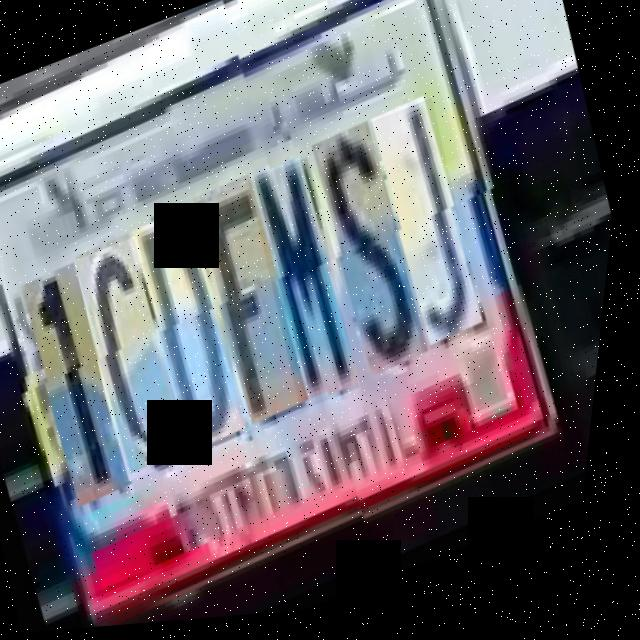1: (9, 263, 163, 522)
C: (62, 234, 216, 490)
D: (118, 210, 276, 470)
F: (178, 178, 339, 445)
J: (354, 101, 512, 365)
M: (234, 158, 389, 421)
S: (295, 124, 457, 395)
